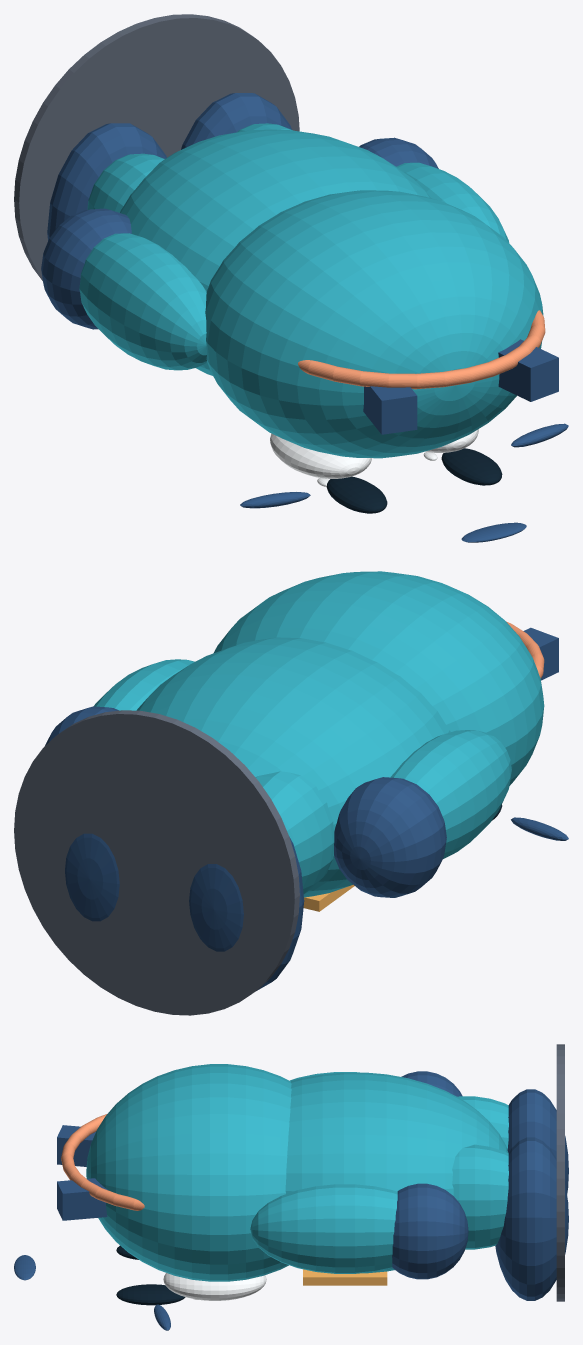
The model's file is luma_reaction_excited.glb.
3 views of the same model, one above another, from view 1: azimuth 30°, elevation 25°; view 2: azimuth 150°, elevation 25°; view 3: azimuth 270°, elevation 25° (orthographic). The views are drawn at different scales.
Visible parts, largest first — view 1: CHR_Head, CHR_DisplayBase, CHR_Torso, CHR_LeftArm, CHR_LeftHand, CHR_LeftFoot, CHR_StatusRing, CHR_RightFoot, CHR_RightArm, CHR_LeftLeg, CHR_RightAntenna, CHR_LeftAntenna (+7 smaller); view 2: CHR_DisplayBase, CHR_Torso, CHR_Head, CHR_LeftHand, CHR_LeftArm, CHR_LeftLeg, CHR_LeftFoot, CHR_RightFoot, CHR_RightArm, CHR_LeftAntenna, CHR_LeftBrow, CHR_RightHand (+1 smaller); view 3: CHR_Head, CHR_Torso, CHR_RightArm, CHR_RightFoot, CHR_RightHand, CHR_RightLeg, CHR_LeftFoot, CHR_DisplayBase, CHR_RightEyeWhite, CHR_StatusRing, CHR_RightAntenna, CHR_ChestSensor (+5 smaller).
Boxes of the visible parts, x1=… form: CHR_Head: x1=205, y1=190, x2=543, y2=458; CHR_DisplayBase: x1=14, y1=14, x2=299, y2=280; CHR_Torso: x1=120, y1=129, x2=431, y2=375; CHR_LeftArm: x1=79, y1=233, x2=206, y2=370; CHR_LeftHand: x1=41, y1=208, x2=131, y2=329; CHR_LeftFoot: x1=47, y1=123, x2=166, y2=240; CHR_StatusRing: x1=298, y1=310, x2=545, y2=389; CHR_RightFoot: x1=181, y1=93, x2=291, y2=149; CHR_RightArm: x1=396, y1=162, x2=509, y2=242; CHR_LeftLeg: x1=87, y1=153, x2=164, y2=212; CHR_RightAntenna: x1=498, y1=339, x2=558, y2=401; CHR_LeftAntenna: x1=363, y1=386, x2=417, y2=434; CHR_DisplayBase: x1=14, y1=710, x2=299, y2=1015; CHR_Torso: x1=136, y1=637, x2=450, y2=897; CHR_Head: x1=213, y1=571, x2=544, y2=785; CHR_LeftHand: x1=334, y1=777, x2=446, y2=897; CHR_LeftArm: x1=390, y1=730, x2=511, y2=858; CHR_LeftLeg: x1=255, y1=771, x2=334, y2=893; CHR_LeftFoot: x1=189, y1=836, x2=304, y2=990; CHR_RightFoot: x1=65, y1=833, x2=119, y2=921; CHR_RightArm: x1=94, y1=659, x2=194, y2=710; CHR_LeftAntenna: x1=523, y1=627, x2=558, y2=680; CHR_LeftBrow: x1=511, y1=817, x2=568, y2=840; CHR_RightHand: x1=45, y1=706, x2=118, y2=745; CHR_Head: x1=86, y1=1064, x2=291, y2=1281; CHR_Torso: x1=285, y1=1072, x2=508, y2=1273; CHR_RightArm: x1=250, y1=1184, x2=397, y2=1273; CHR_RightFoot: x1=495, y1=1137, x2=568, y2=1300; CHR_RightHand: x1=392, y1=1183, x2=468, y2=1279; CHR_RightLeg: x1=452, y1=1144, x2=508, y2=1249; CHR_LeftFoot: x1=507, y1=1089, x2=568, y2=1194; CHR_DisplayBase: x1=556, y1=1044, x2=564, y2=1301; CHR_RightEyeWhite: x1=163, y1=1273, x2=266, y2=1300; CHR_StatusRing: x1=61, y1=1114, x2=144, y2=1210; CHR_RightAntenna: x1=57, y1=1178, x2=107, y2=1220; CHR_ChestSensor: x1=303, y1=1269, x2=387, y2=1285.
Bounding box in the file's own units: 2.64 × 1.9 × 4.09.
